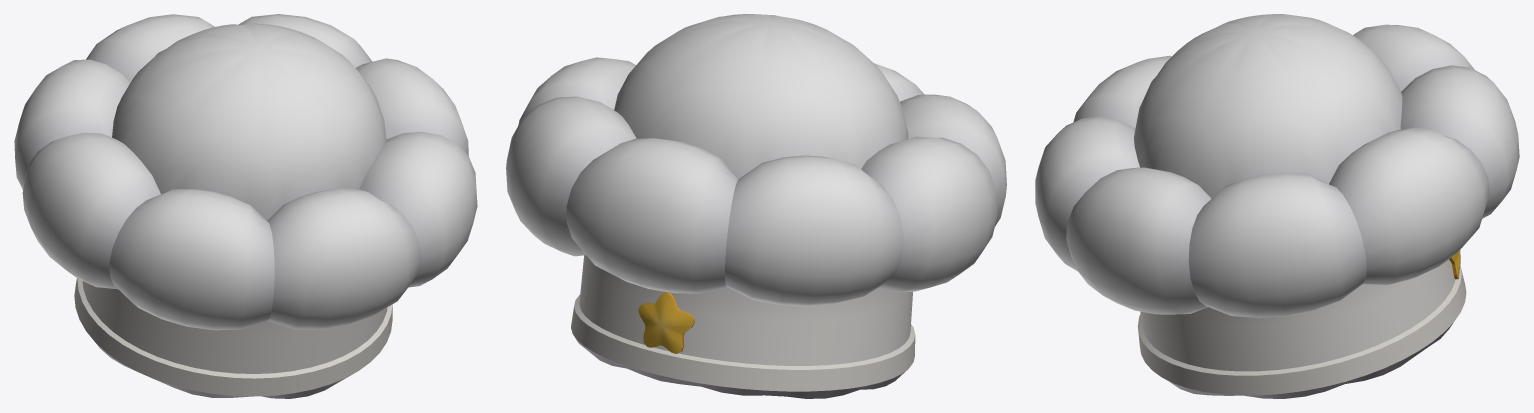
The model's file is Cosmetic_Chef_Hat.glb.
The picture shows the model from 3 angles, left to right: view 1: azimuth 30°, elevation 25°; view 2: azimuth 150°, elevation 25°; view 3: azimuth 270°, elevation 25°; orthographic projection. The views are drawn at different scales.
Parts seen in each view (by area): view 1: Cosmetic_Chef_Hat; view 2: Cosmetic_Chef_Hat; view 3: Cosmetic_Chef_Hat.
Boxes of the visible parts, box(x1,y1,x2,y2) form: Cosmetic_Chef_Hat: box(14, 14, 477, 398); Cosmetic_Chef_Hat: box(506, 14, 1006, 398); Cosmetic_Chef_Hat: box(1035, 14, 1519, 398).
Size of the model in its own units: 1.01 by 0.7398 by 0.9982.
